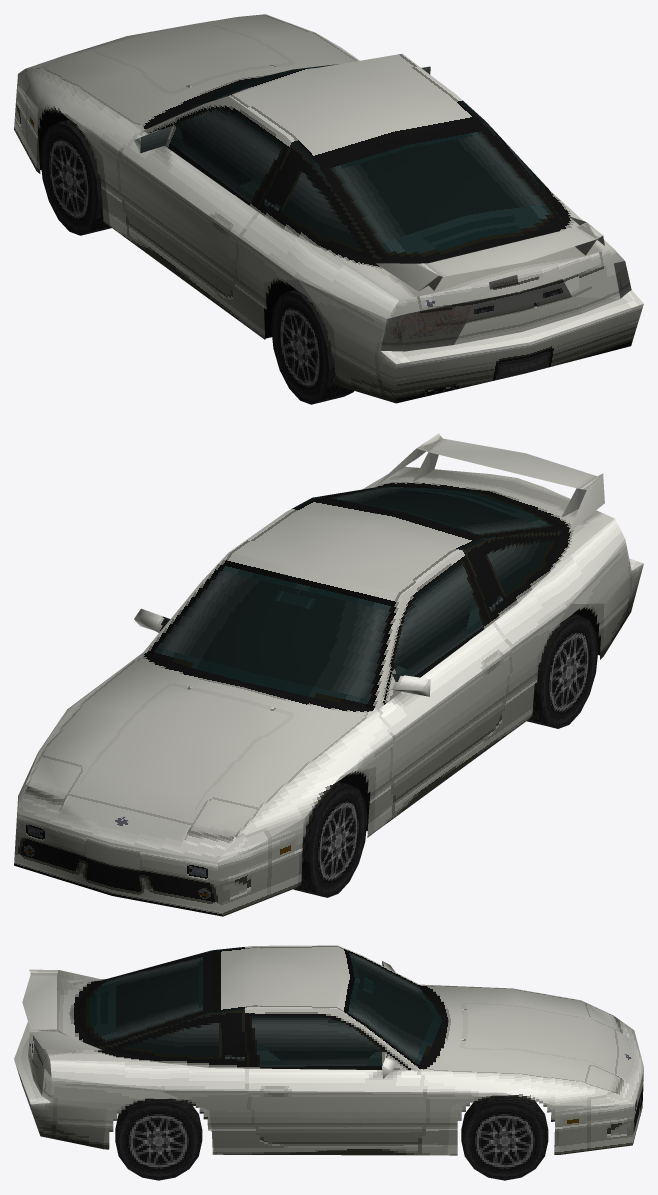
File: exp-202.glb
3 renders of one model, top to bottom at view 1: azimuth 30°, elevation 25°; view 2: azimuth 150°, elevation 25°; view 3: azimuth 270°, elevation 25°, orthographic. The views are drawn at different scales.
Parts seen in each view (by area): view 1: source/Native body LOD0, source/Native wheel 2, source/Native wheel 0; view 2: source/Native body LOD0, source/Native wheel 0, source/Native wheel 2; view 3: source/Native body LOD0, source/Native wheel 1, source/Native wheel 3.
Part boxes in pixels (x1=…): source/Native body LOD0: x1=14, y1=14, x2=643, y2=403; source/Native wheel 2: x1=271, y1=289, x2=353, y2=404; source/Native wheel 0: x1=40, y1=119, x2=111, y2=235; source/Native body LOD0: x1=14, y1=433, x2=643, y2=916; source/Native wheel 0: x1=293, y1=781, x2=367, y2=897; source/Native wheel 2: x1=527, y1=614, x2=598, y2=728; source/Native body LOD0: x1=14, y1=945, x2=643, y2=1155; source/Native wheel 1: x1=461, y1=1095, x2=548, y2=1180; source/Native wheel 3: x1=115, y1=1098, x2=202, y2=1180.
Bounding box in the file's own units: 1.82 × 1.26 × 4.52.
12 materials, 11 textured.
